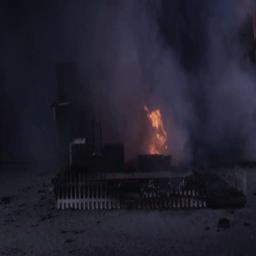fire: (137, 106, 171, 157)
smoke: (18, 0, 233, 102)
